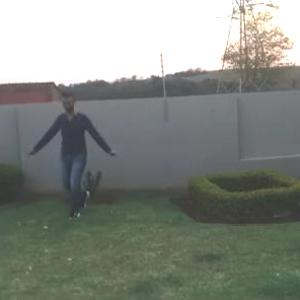land: (30, 103, 113, 219)
